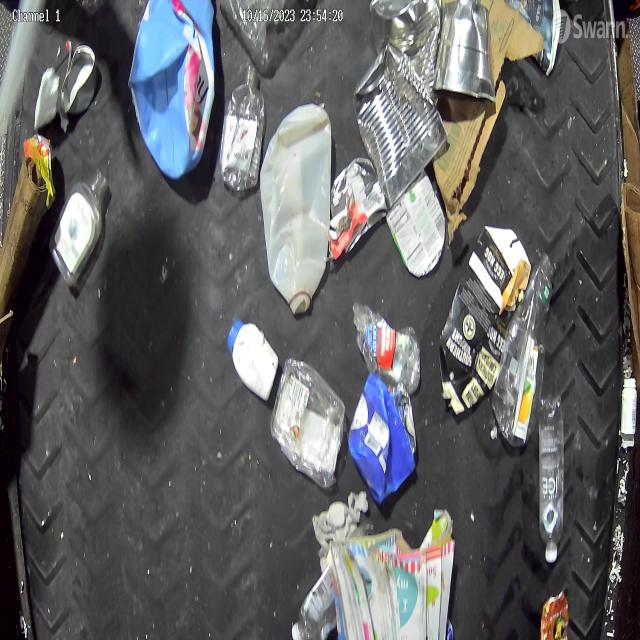can: (353, 42, 447, 209), (369, 0, 441, 106), (432, 0, 496, 102), (331, 158, 389, 252), (61, 44, 98, 116), (540, 591, 571, 639)
milk_jug: (260, 104, 332, 311)
non_white_jug: (439, 224, 532, 415), (129, 2, 214, 180), (348, 376, 418, 502)
plastic_bottle: (490, 252, 556, 448), (49, 165, 111, 287), (350, 300, 417, 390), (218, 65, 265, 192), (539, 392, 566, 564), (292, 565, 336, 640)
